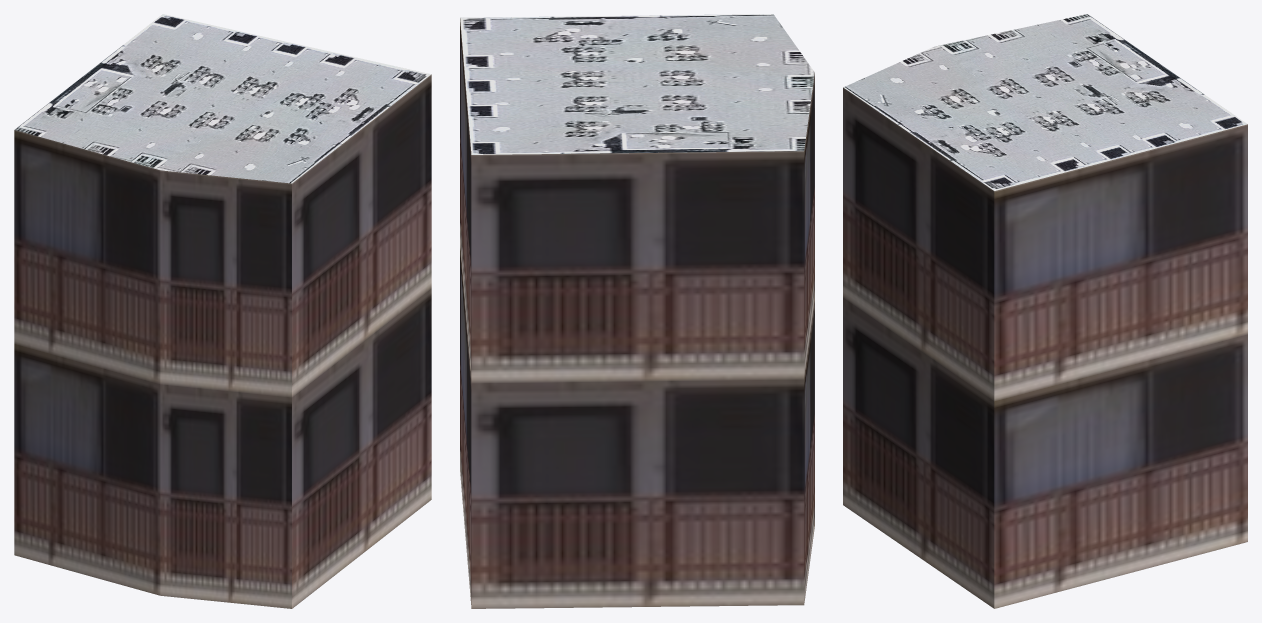
File: ResTex__1588.fbx
3 views of the same model, side by side, from view 1: azimuth 30°, elevation 25°; view 2: azimuth 150°, elevation 25°; view 3: azimuth 270°, elevation 25° (orthographic). The views are drawn at different scales.
Parts seen in each view (by area): view 1: CityEngineMaterial_6_m, CityEngineMaterial_m; view 2: CityEngineMaterial_6_m, CityEngineMaterial_m; view 3: CityEngineMaterial_6_m, CityEngineMaterial_m.
Part boxes in pixels (x1,y1,x2,y2): CityEngineMaterial_6_m: (14,74,431,608); CityEngineMaterial_m: (14,14,430,183); CityEngineMaterial_6_m: (460,18,814,608); CityEngineMaterial_m: (460,14,814,154); CityEngineMaterial_6_m: (843,87,1247,608); CityEngineMaterial_m: (843,14,1247,190).
Bounding box in the file's own units: 5.46 × 6 × 5.27.
2 materials, 2 textured.
